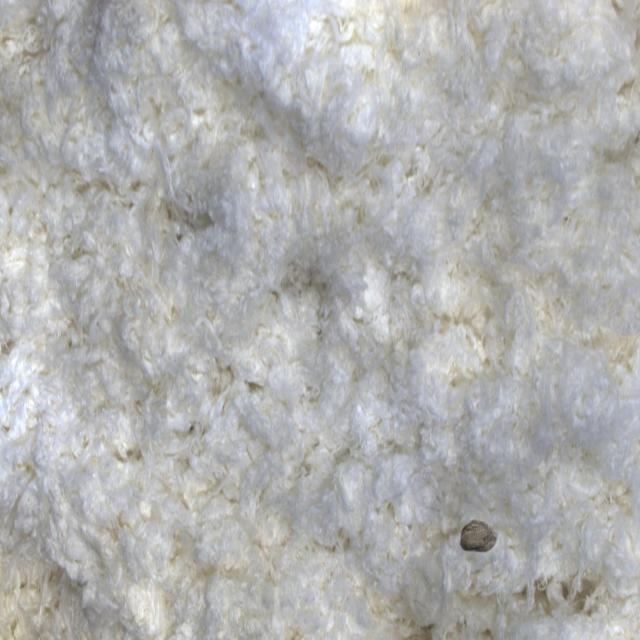dust: (441, 467, 527, 588)
